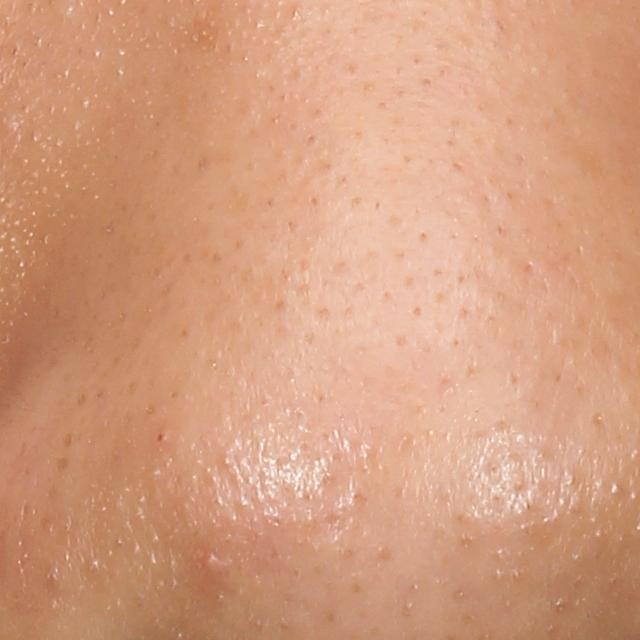comedo: (202, 552, 228, 576)
